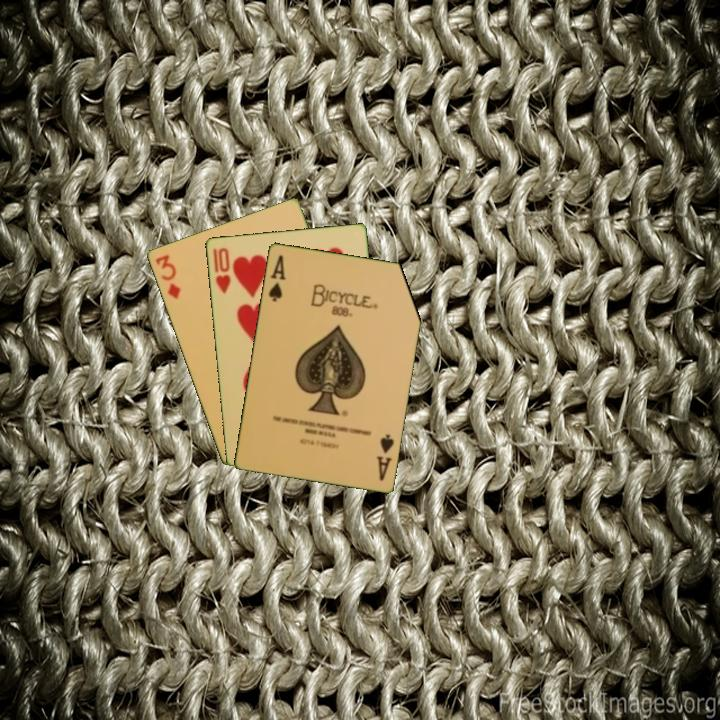10h: (209, 244, 233, 296)
3d: (151, 251, 183, 302)
As: (373, 430, 397, 483), (265, 251, 288, 304)
